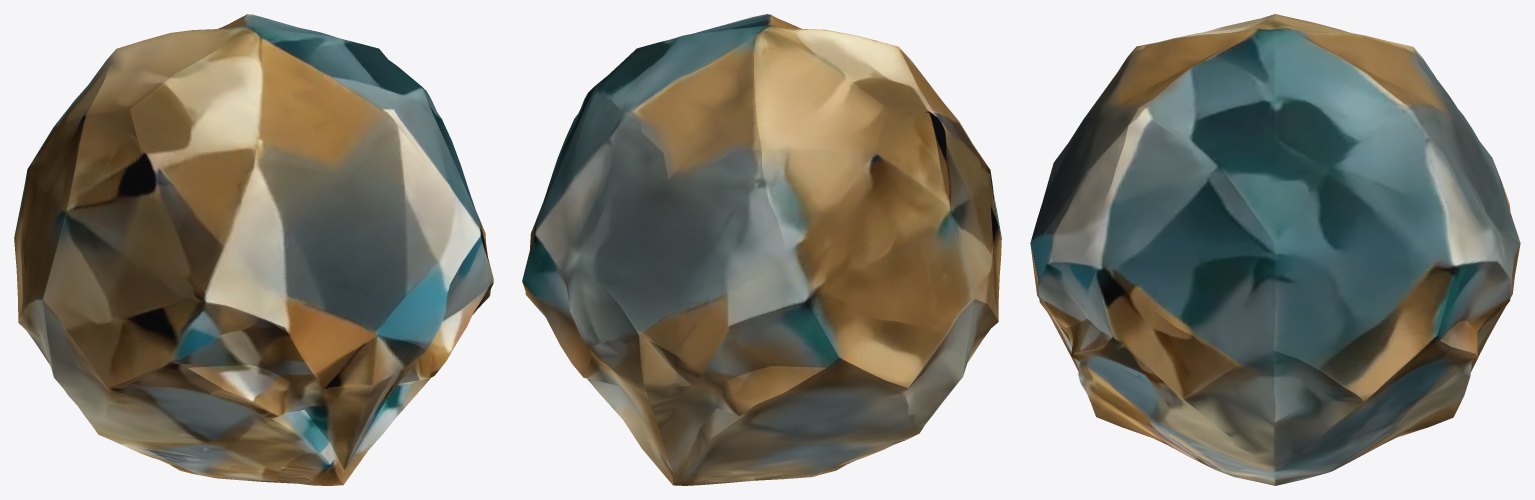
The model's file is m2FacetGem.glb.
3 views of the same model, side by side, from view 1: azimuth 30°, elevation 25°; view 2: azimuth 150°, elevation 25°; view 3: azimuth 270°, elevation 25° (orthographic).
Visible parts, largest first — view 1: model; view 2: model; view 3: model.
Part boxes in pixels (x1,y1,x2,y2): model: (14,14,493,485); model: (522,14,1001,485); model: (1030,14,1520,485).
Size of the model in its own units: 1.9 by 1.86 by 1.9.
Materials: 1 (1 with a texture image).
